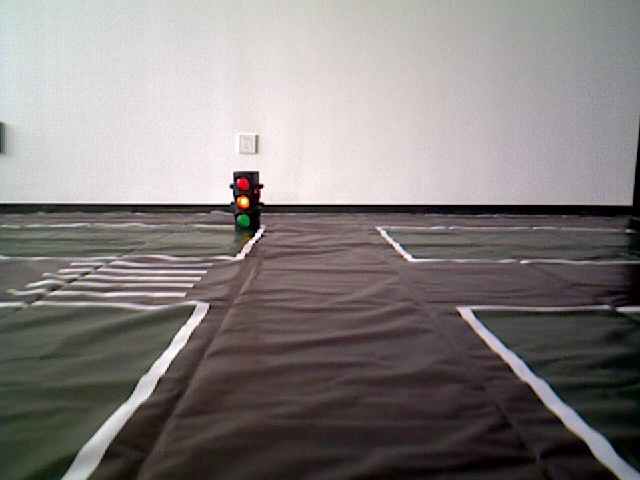yellow: (230, 169, 266, 231)
